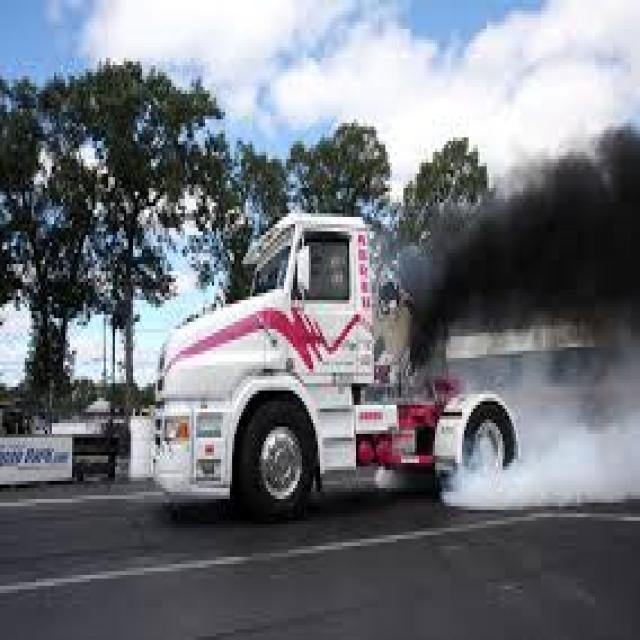Smoke: (383, 135, 640, 387), (437, 337, 640, 519)
